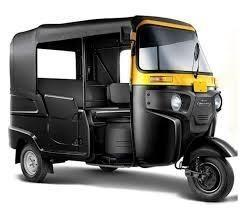keke: (10, 12, 237, 207), (10, 14, 230, 185)
